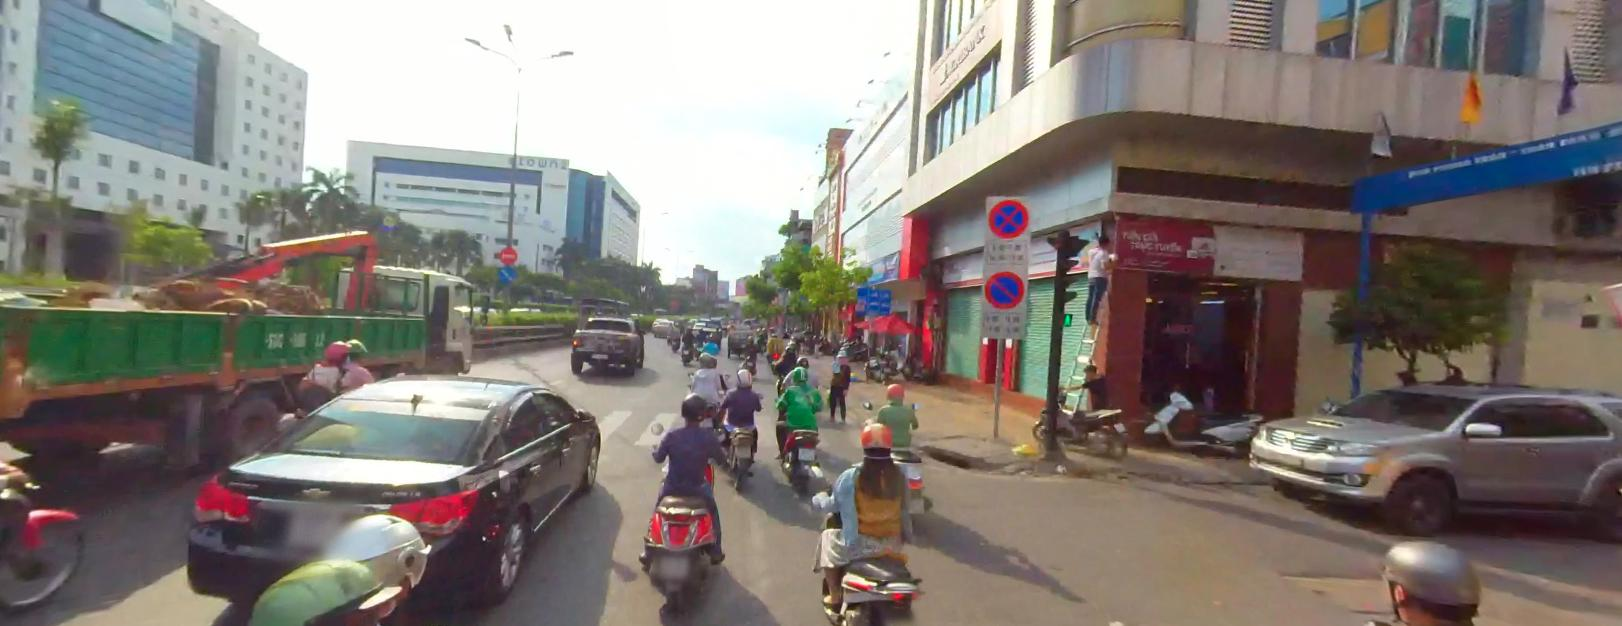Cam dung va do: (987, 195, 1029, 237), (983, 267, 1024, 308)
Cam nguoc chieu: (498, 245, 516, 263)
Hieu lenh: (497, 264, 516, 283)
